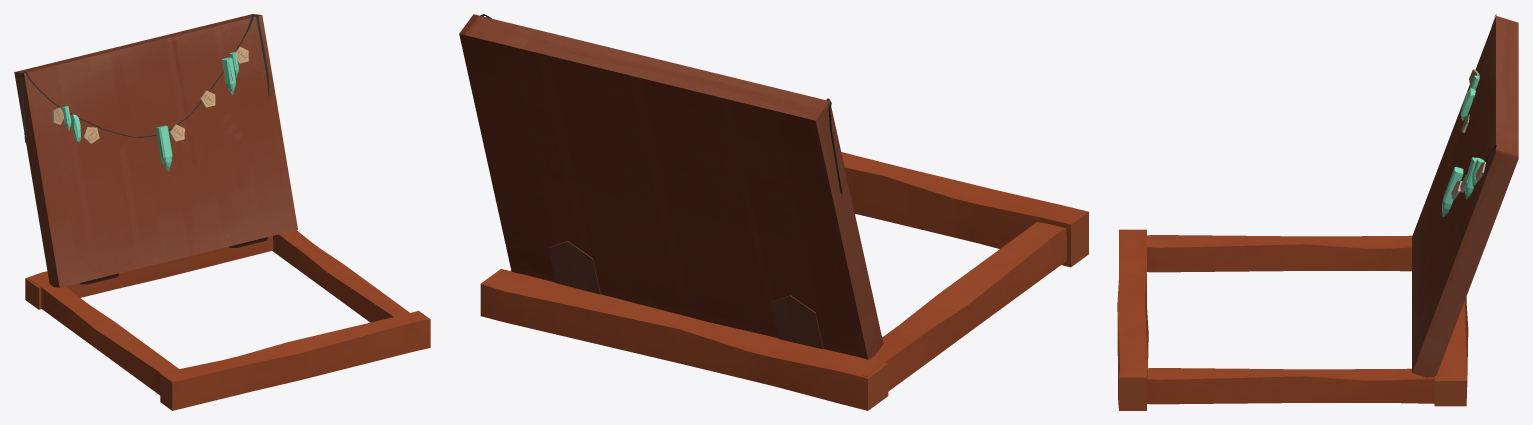
The model's file is Trapdoor.fbx.
3 renders of one model, left to right at view 1: azimuth 30°, elevation 25°; view 2: azimuth 150°, elevation 25°; view 3: azimuth 270°, elevation 25°, orthographic. The views are drawn at different scales.
Visible parts, largest first — view 1: Cube.001; view 2: Cube.001; view 3: Cube.001.
Boxes of the visible parts, x1,y1,x2,y2 form: Cube.001: (14, 14, 430, 410); Cube.001: (459, 14, 1088, 410); Cube.001: (1117, 14, 1518, 410).
Bounding box in the file's own units: 299 × 244 × 343.
